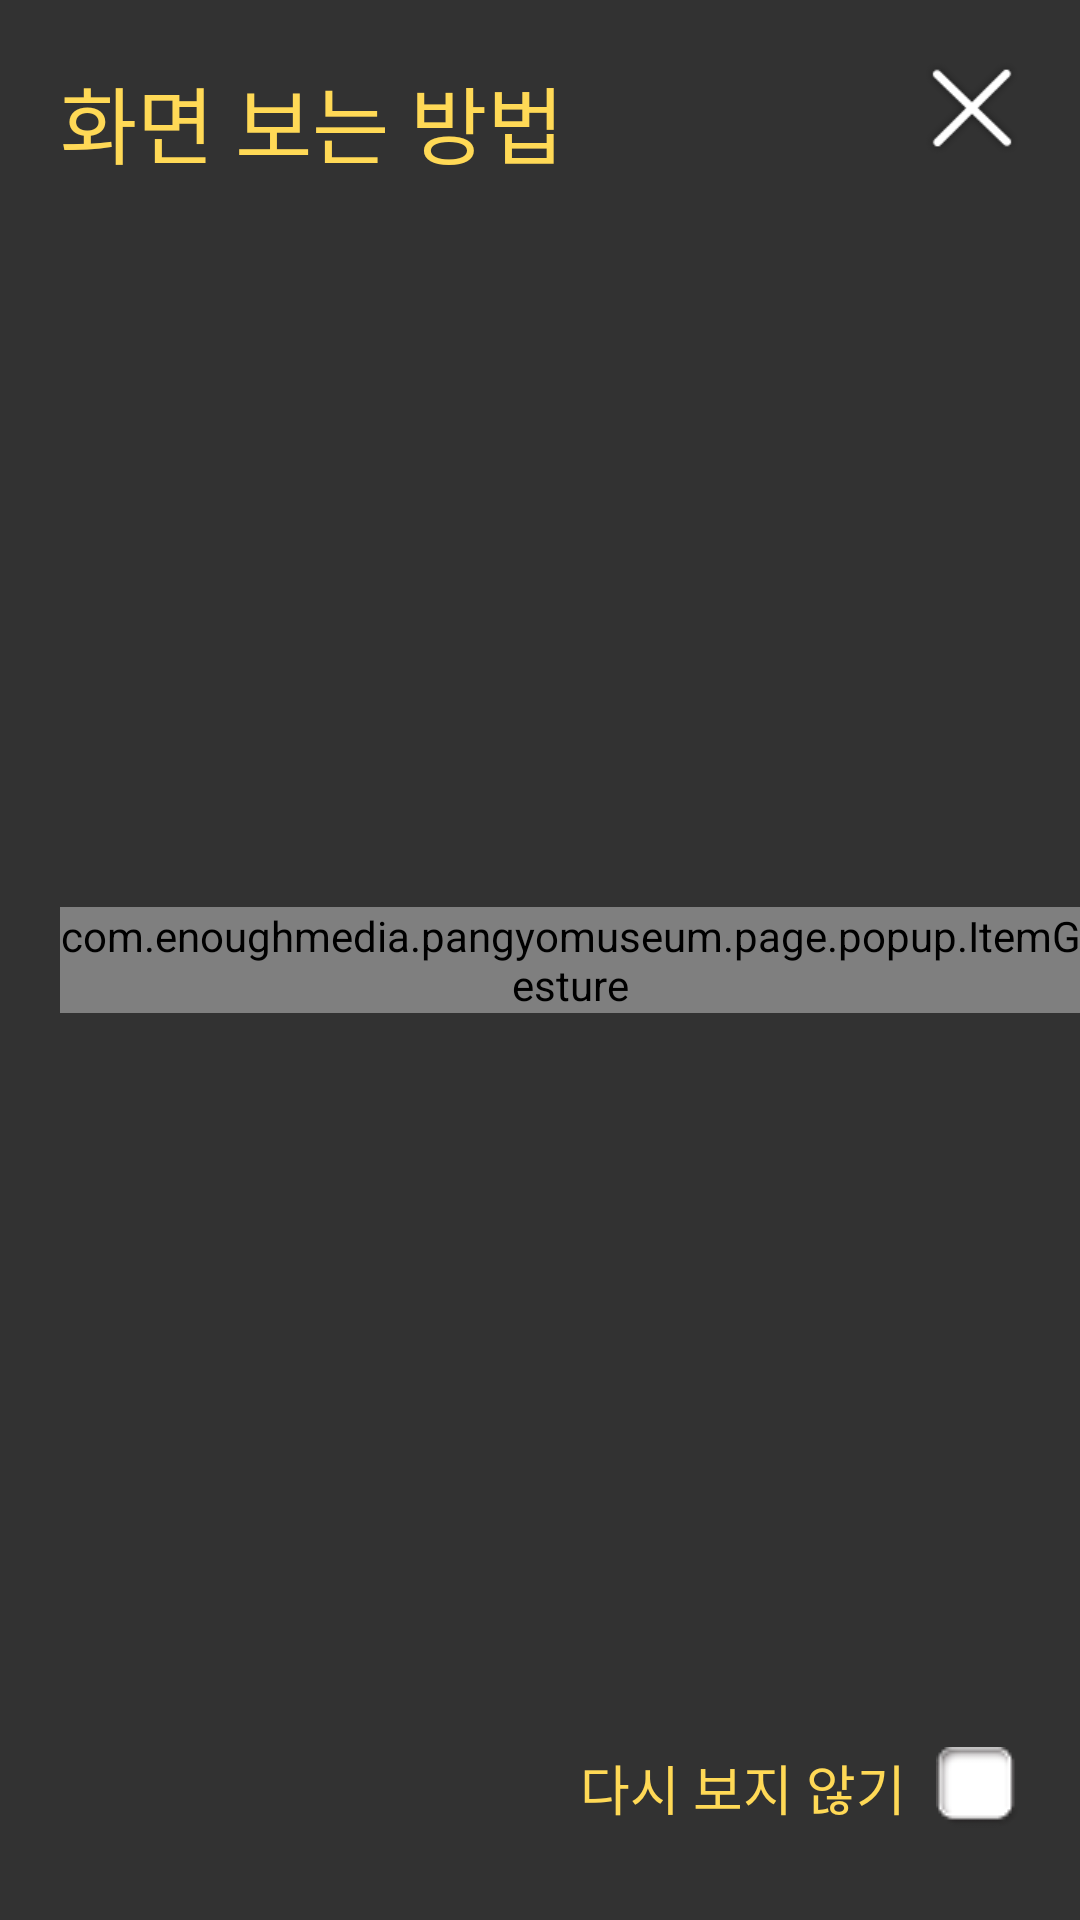

Locate icon controls on the screen. Image size 1080 × 1920, boxes as (x1, y1, x2, y2).
close: (932, 69, 1012, 147)
